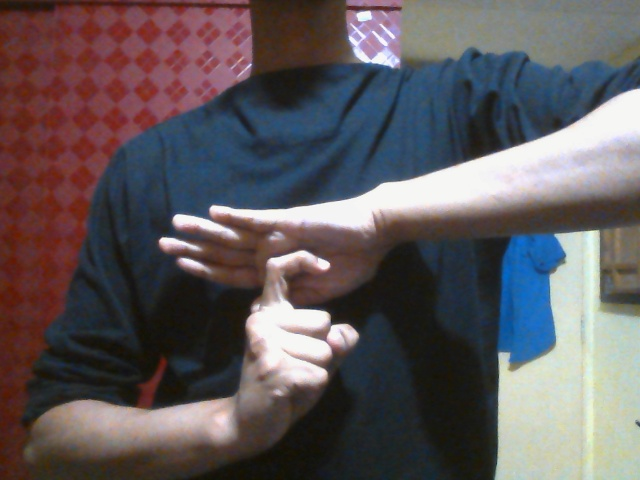R: (156, 199, 425, 449)
